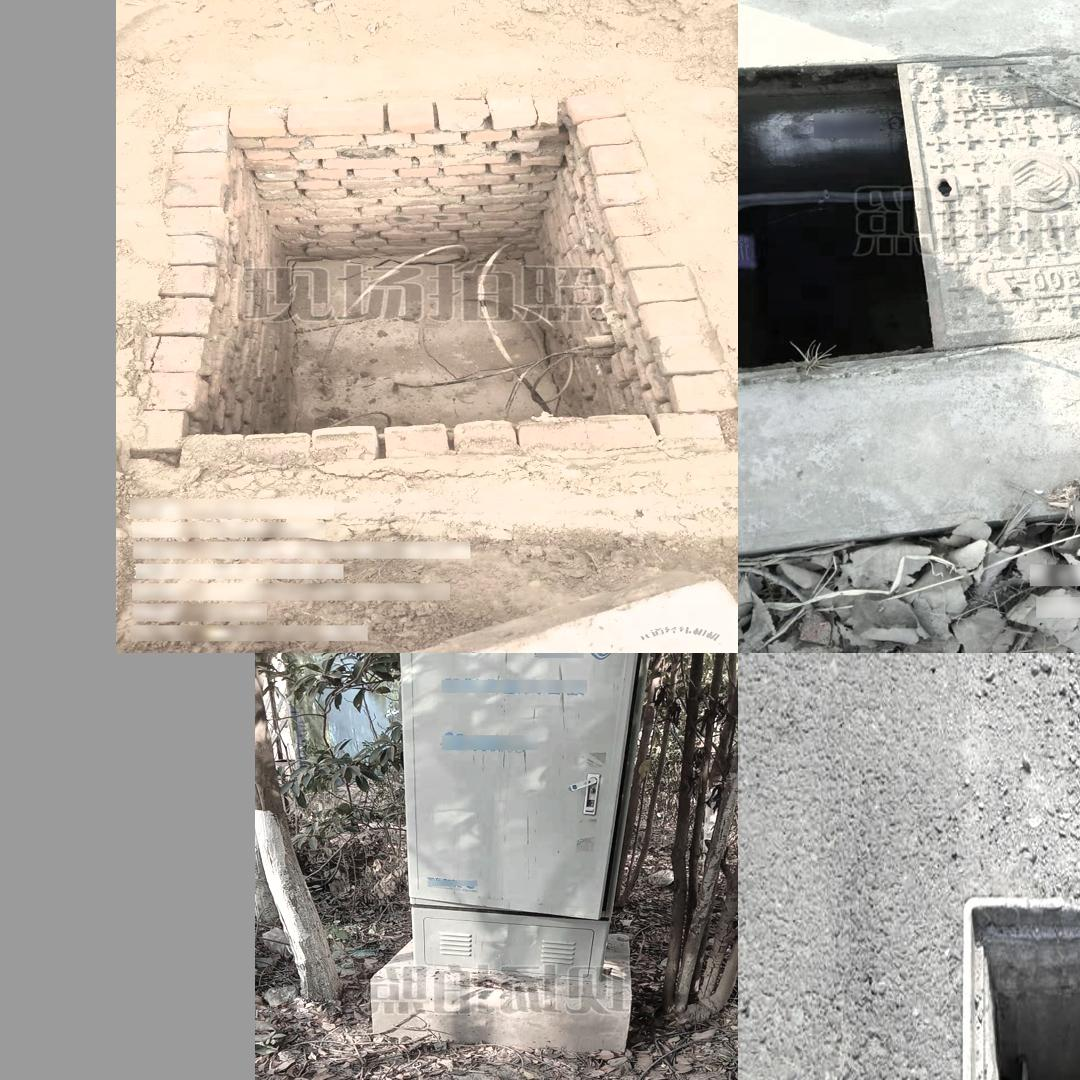lose: (742, 0, 1080, 493), (175, 121, 680, 436), (929, 854, 1080, 1080)
